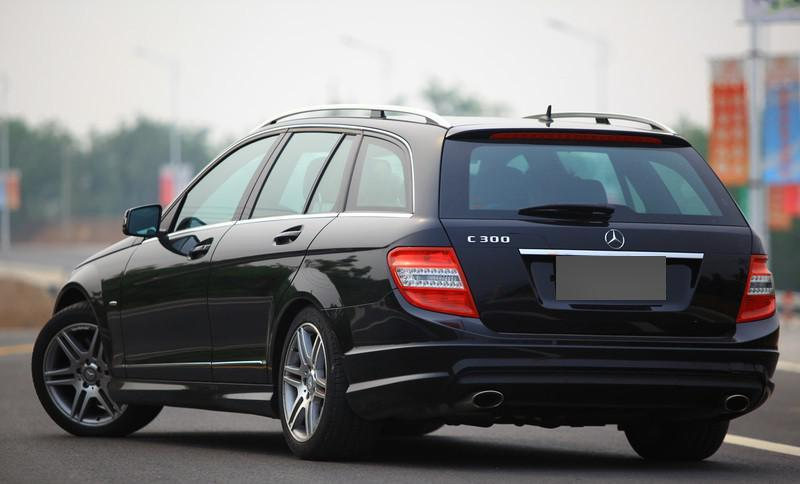Wagon: (30, 102, 779, 462)
